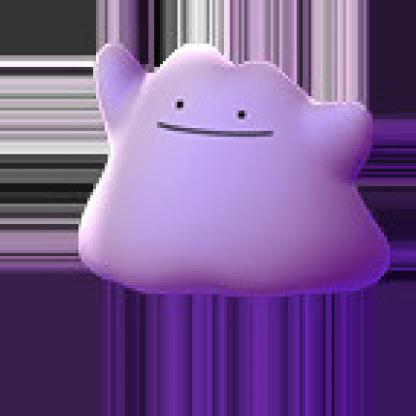Ditto: (21, 82, 416, 391)
